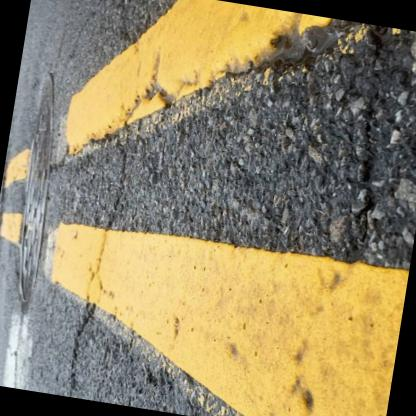manholes: (0, 63, 83, 312)
